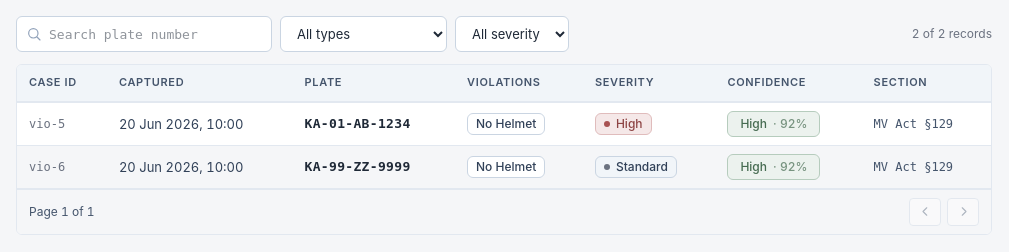
ViolationsList › filters by severity
Select "High" in the dropdown named "Filter by severity". click: {"x": 512, "y": 34}
box: [455,16,569,52]
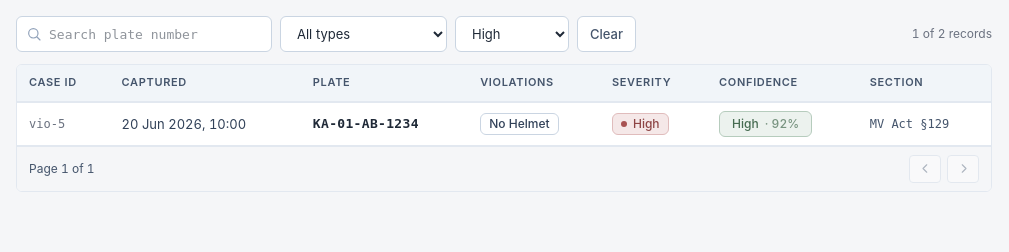
Expected: the text "KA-01-AB-1234" is shown, [313,116,419,131]
Now the text "KA-99-ZZ-9999" is gone
